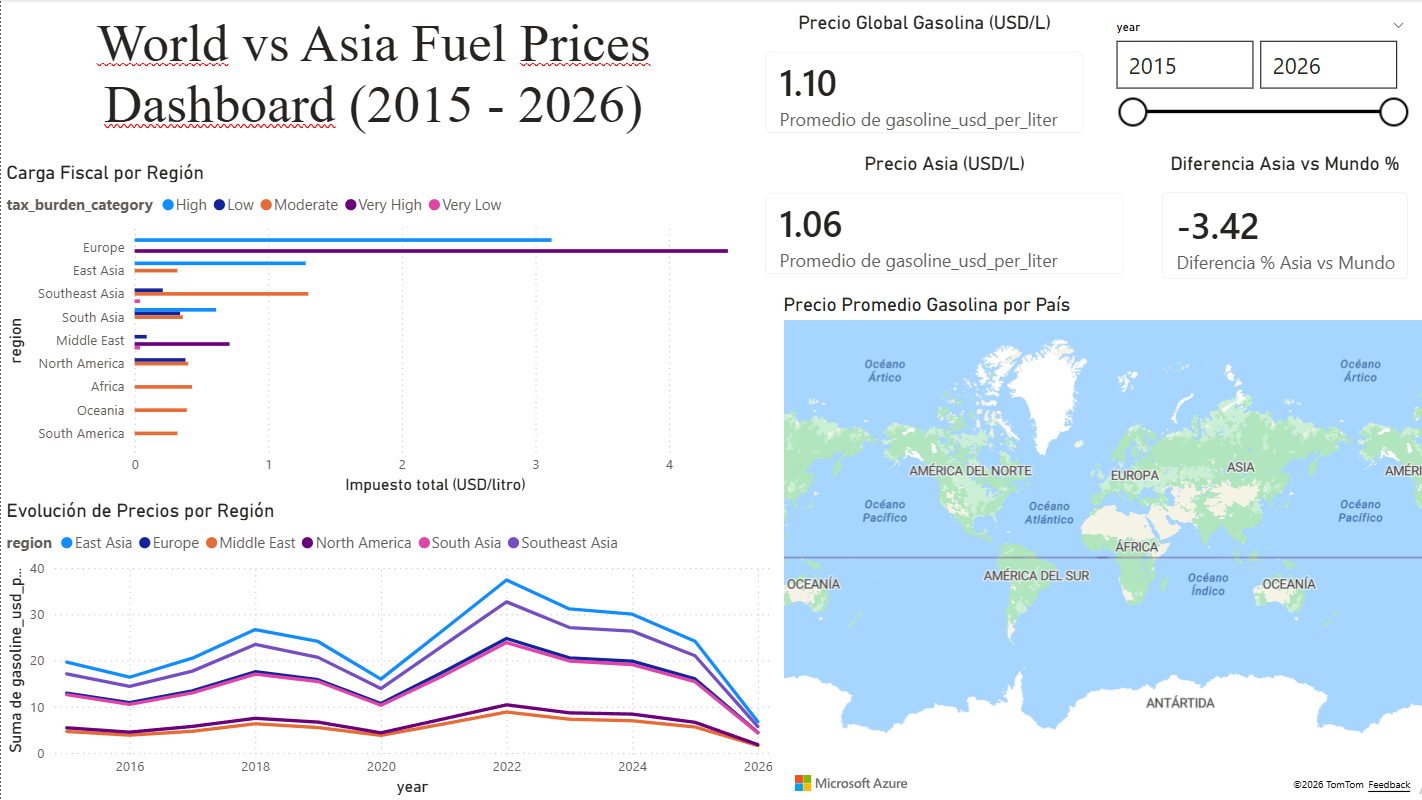

The page's visual inventory and layout, read from the dashboard file:
{"tool":"powerbi","page":{"name":"Página 1","canvas":[1280,720],"ordinal":0},"visuals":[{"type":"cardVisual","title":"Precio Global Gasolina (USD/L)","fields":{"Data":["Avg(global_fuel_prices.gasoline_usd_per_liter)"]},"box":[668.8,6.2,320,131.2],"z":0},{"type":"cardVisual","title":"Precio Asia (USD/L)","fields":{"Data":["Avg(asia_fuel_prices_detailed.gasoline_usd_per_liter)"]},"box":[668.8,132.5,356.2,131.2],"z":1000},{"type":"cardVisual","title":"Diferencia Asia vs Mundo %","fields":{"Data":["asia_fuel_prices_detailed.Diferencia % Asia vs Mundo"]},"box":[1025,137.5,255,131.2],"z":2000},{"type":"lineChart","title":"Evolución de Precios por Región","fields":{"Category":["price_trend_monthly.year"],"Series":["price_trend_monthly.region"],"Y":["Sum(price_trend_monthly.gasoline_usd_per_liter)"]},"box":[0,448.8,697.5,271.2],"z":3000},{"type":"azureMap","title":"Precio Promedio Gasolina por País","fields":{"Category":["global_fuel_prices.country"],"Size":["Avg(global_fuel_prices.gasoline_usd_per_liter)"]},"box":[697.5,263.8,582.5,456.2],"z":4000},{"type":"clusteredBarChart","title":"Carga Fiscal por Región","fields":{"Category":["fuel_tax_comparison.region"],"Series":["fuel_tax_comparison.tax_burden_category"],"Y":["Sum(fuel_tax_comparison.total_tax_usd_per_liter)"]},"box":[0,145,668.8,303.8],"z":5000},{"type":"slicer","fields":{"Values":["price_trend_monthly.year"]},"box":[988.8,13.8,283.8,117.5],"z":6000},{"type":"textbox","box":[0,6.2,668.8,131.2],"z":6001}]}

Visuals, with their boxes in screenshot pixels (x1, y1, x2, y2), scaled from the page's 1280x720 canvas onto the 1422x800 screenshot:
"Precio Global Gasolina (USD/L)" cardVisual: [743,7,1098,153]
"Precio Asia (USD/L)" cardVisual: [743,147,1139,293]
"Diferencia Asia vs Mundo %" cardVisual: [1139,153,1421,299]
"Evolución de Precios por Región" lineChart: [0,499,775,799]
"Precio Promedio Gasolina por País" azureMap: [775,293,1421,799]
"Carga Fiscal por Región" clusteredBarChart: [0,161,743,499]
slicer - price_trend_monthly.year: [1098,15,1414,146]
textbox: [0,7,743,153]
